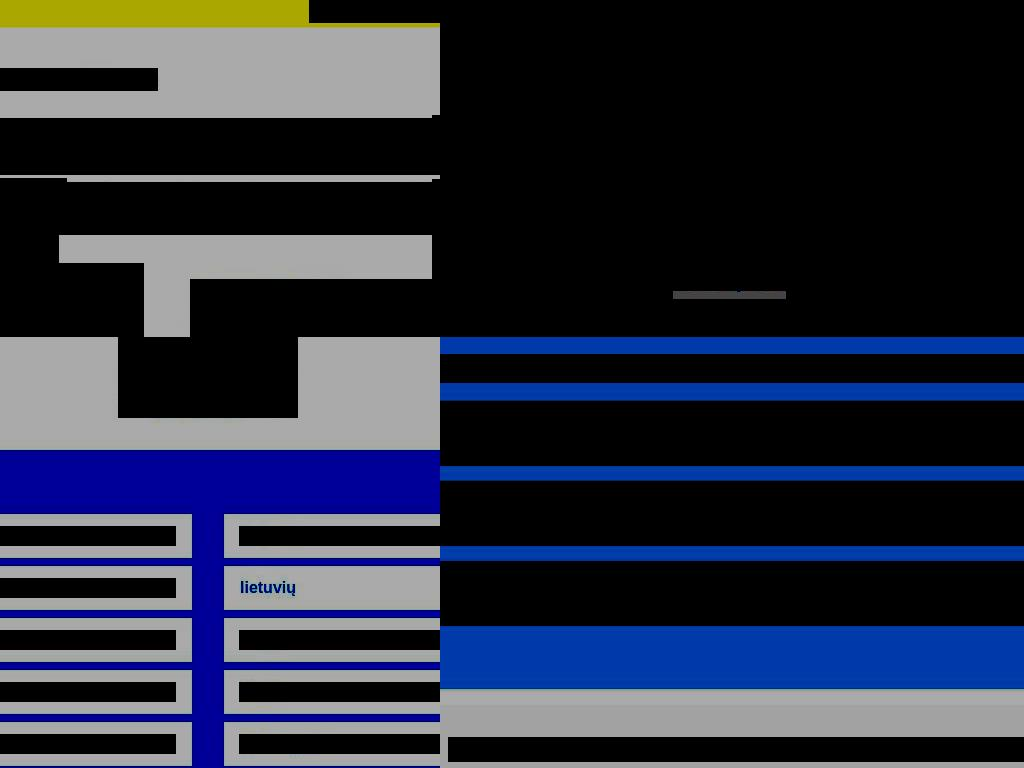button: (612, 71, 892, 125), (448, 737, 1024, 762), (0, 263, 144, 310), (712, 210, 792, 290), (0, 309, 144, 337), (0, 178, 67, 224), (309, 0, 440, 23), (0, 223, 59, 269)
field: (440, 401, 1024, 466), (440, 481, 1024, 546), (440, 561, 1024, 626)
heading: (440, 0, 1024, 51), (0, 118, 440, 175), (440, 354, 1024, 383)
image: (440, 0, 1024, 306), (440, 306, 1024, 337), (118, 337, 298, 418)
link: (0, 126, 279, 163), (239, 526, 440, 546), (239, 578, 440, 598), (239, 630, 440, 650), (239, 682, 440, 702), (239, 734, 440, 754), (0, 68, 158, 91), (0, 526, 176, 546), (0, 578, 176, 598), (0, 630, 176, 650), (0, 682, 176, 702), (0, 734, 176, 754), (440, 299, 622, 318), (673, 285, 786, 302), (483, 312, 608, 327), (719, 312, 837, 327), (526, 318, 615, 337), (858, 312, 966, 327), (810, 285, 893, 302), (918, 285, 988, 302), (627, 312, 699, 327), (516, 285, 574, 302), (599, 285, 650, 302), (440, 312, 463, 327)
text: (0, 182, 440, 235), (440, 299, 1024, 337), (440, 263, 1024, 291), (615, 318, 915, 337), (0, 189, 67, 211), (0, 234, 59, 256), (735, 236, 769, 252)
